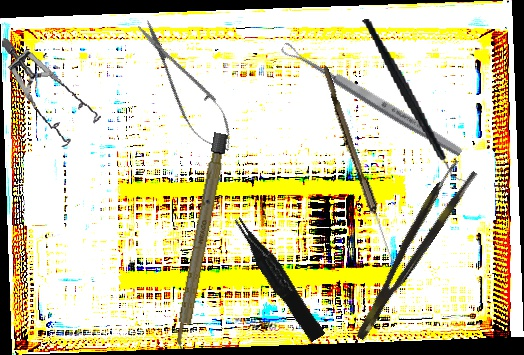Chopper: (362, 7, 469, 195)
Micro Scissor: (126, 12, 245, 162)
Scalpel Handle: (172, 132, 229, 350)
Speculum: (1, 26, 105, 154)
Surgical Spoon: (279, 40, 465, 159), (317, 65, 399, 265)
Tissue Forceps: (341, 158, 478, 342), (231, 210, 326, 346)
